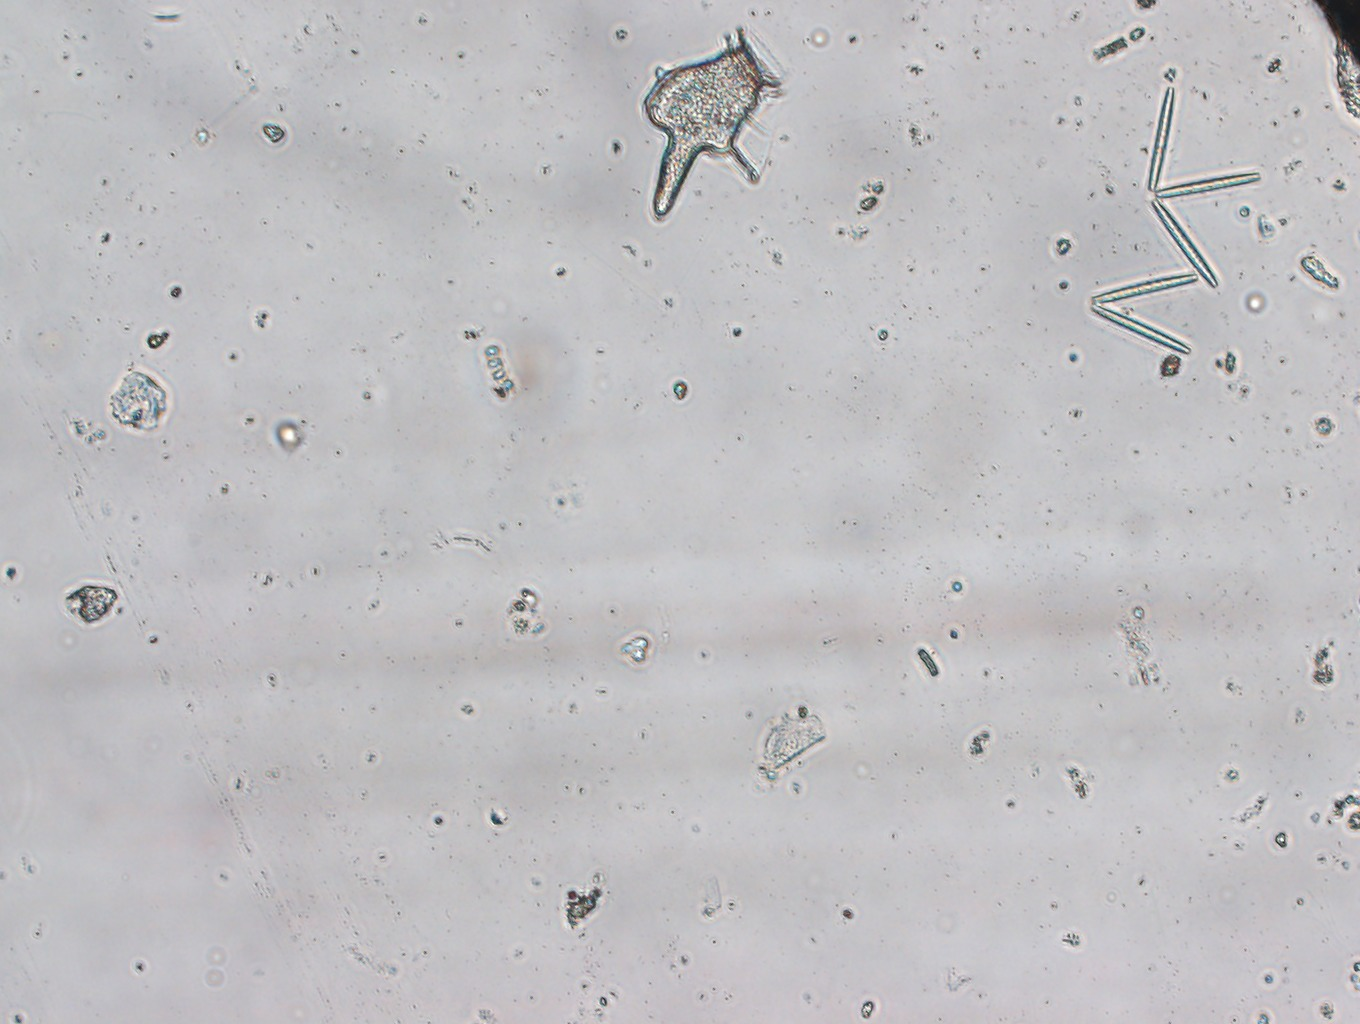dinophysis caudata: (644, 27, 779, 214)
thalassionema frauenfeldii: (1084, 85, 1265, 365)
